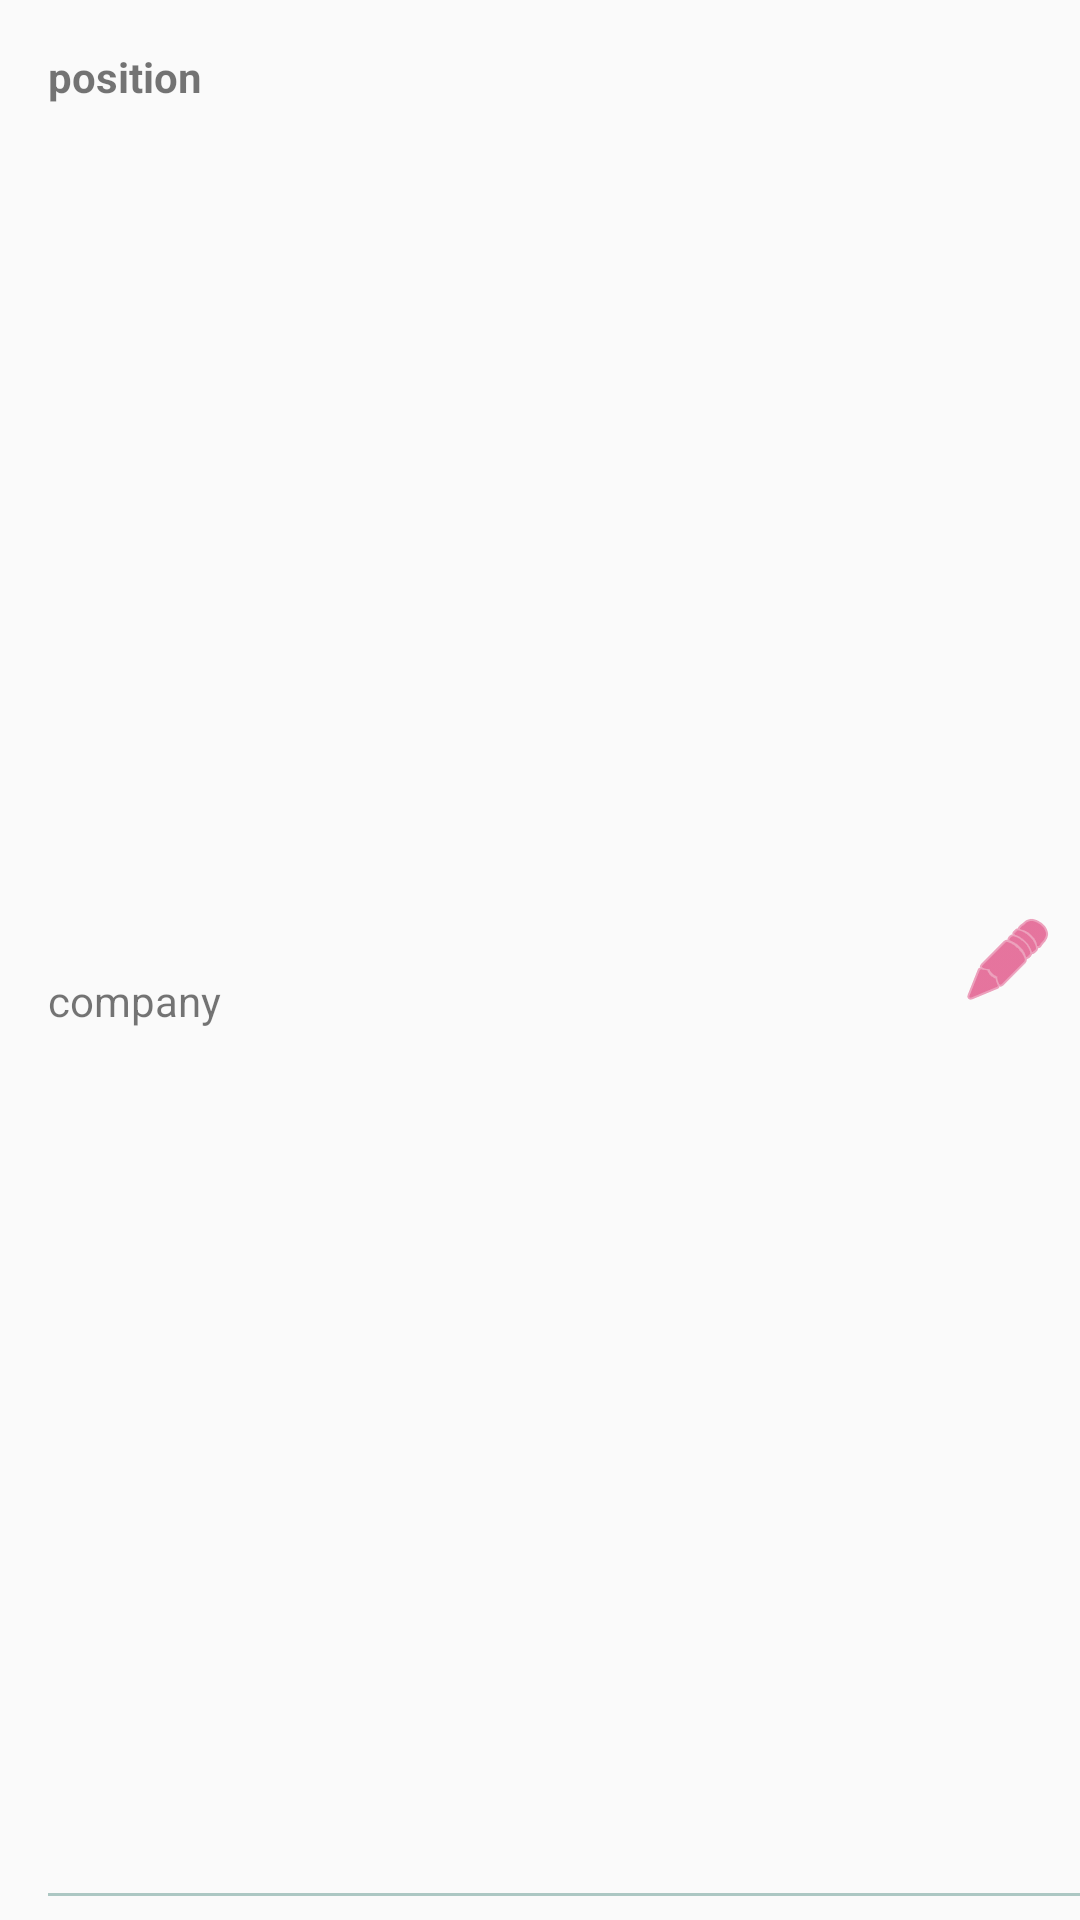

Locate icon controls on the screen. Image size 1080*1920, boxes as (x1, y1, x2, y2).
edit: (967, 919, 1048, 1000)
